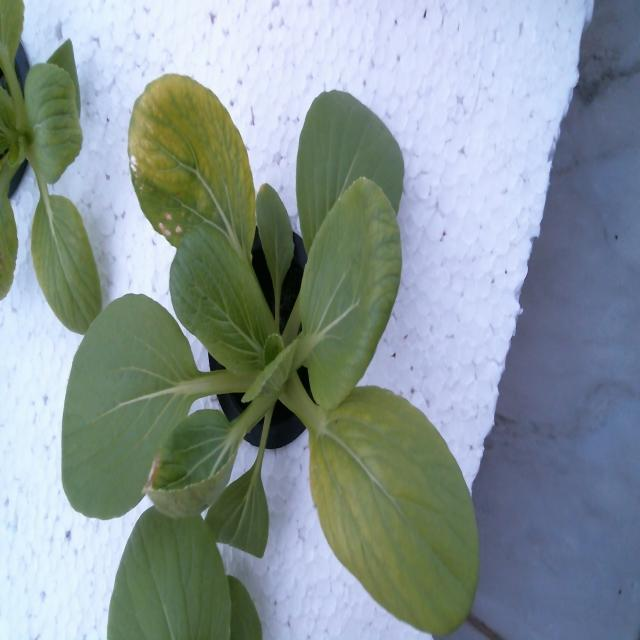pakcoy_tidak_sehat: (56, 26, 490, 639)
